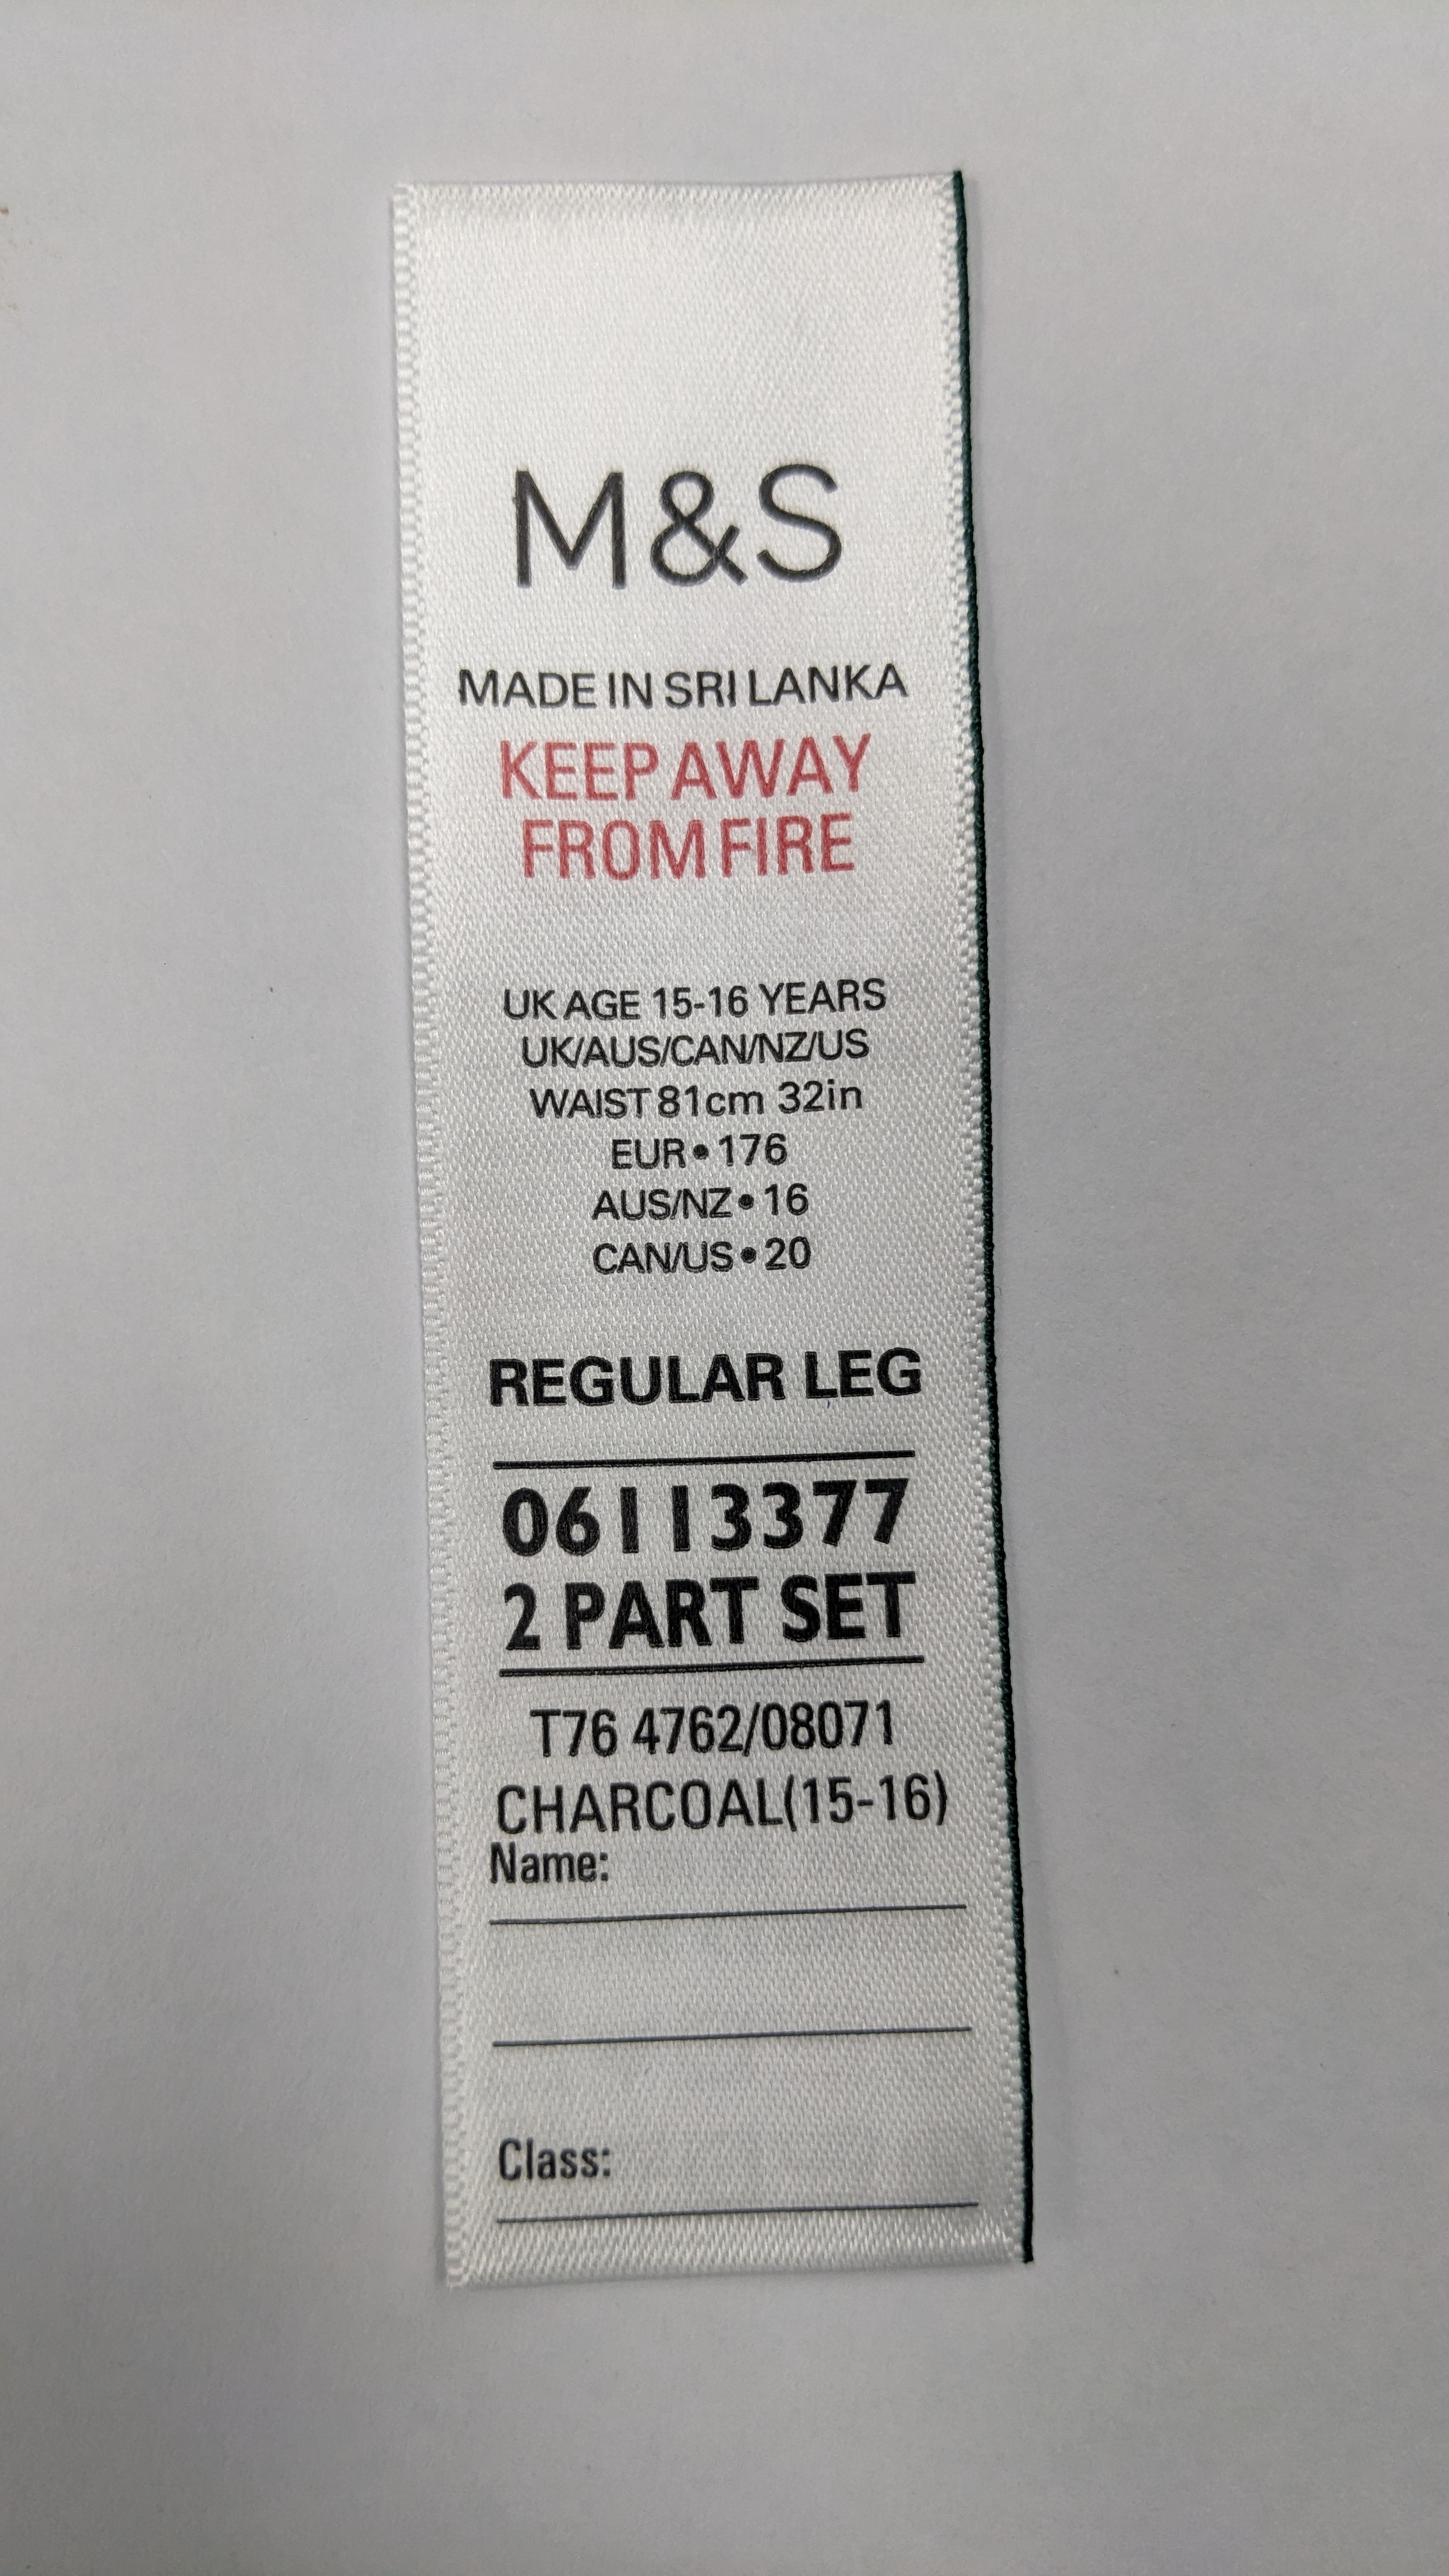Good_label: (336, 106, 1070, 2323)
